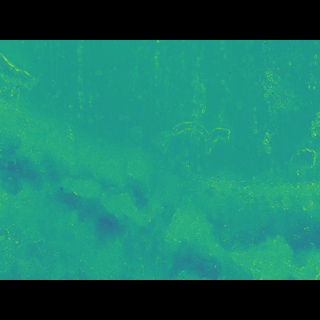Loch: (0, 116, 320, 248)
